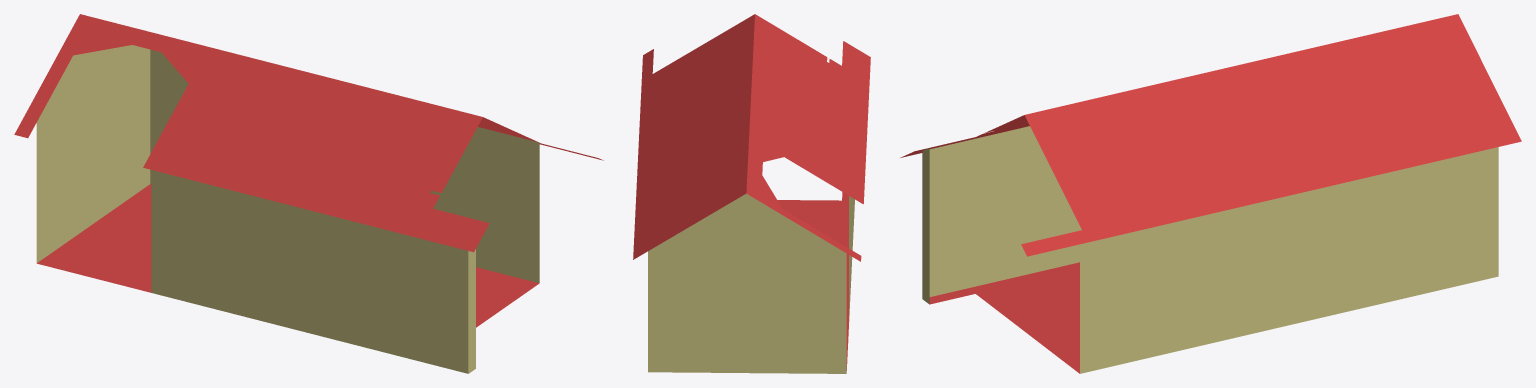
3 renders of one model, left to right at view 1: azimuth 30°, elevation 25°; view 2: azimuth 150°, elevation 25°; view 3: azimuth 270°, elevation 25°, orthographic. The views are drawn at different scales.
Bounding box in the file's own units: 29.61 × 36.52 × 14.
